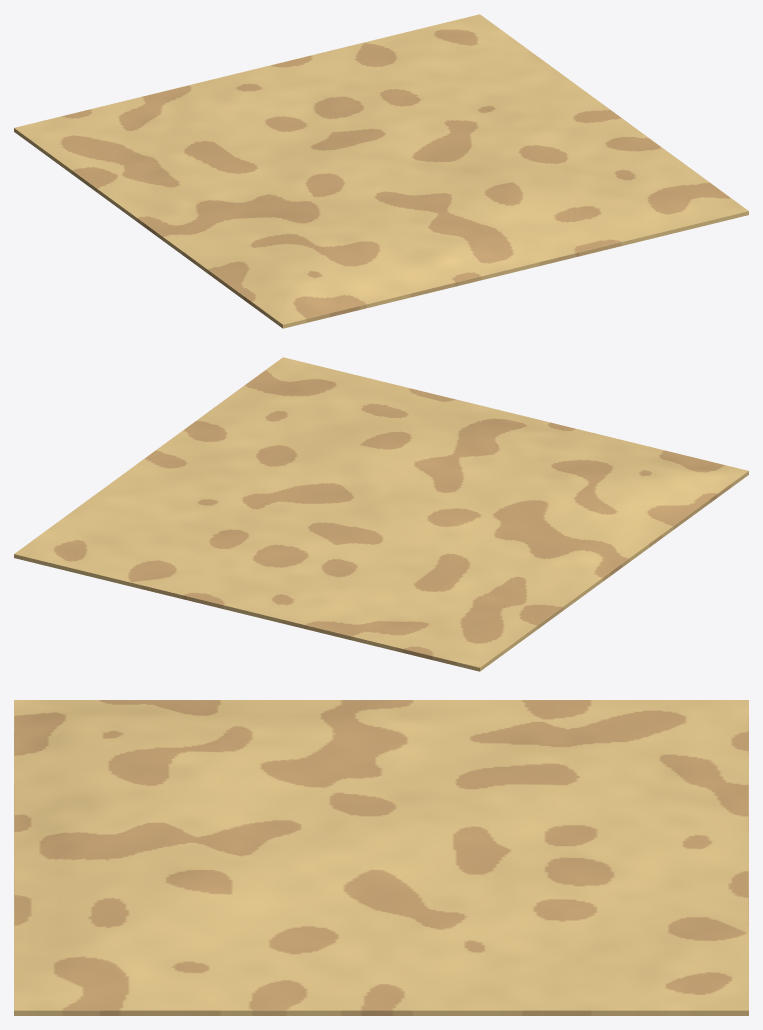
File: Desert_Flat_11.obj
The picture shows the model from 3 angles, top to bottom: view 1: azimuth 30°, elevation 25°; view 2: azimuth 150°, elevation 25°; view 3: azimuth 270°, elevation 25°; orthographic projection. The views are drawn at different scales.
Bounding box in the file's own units: 10 × 0.2891 × 10.
Materials: 1 (1 with a texture image).
